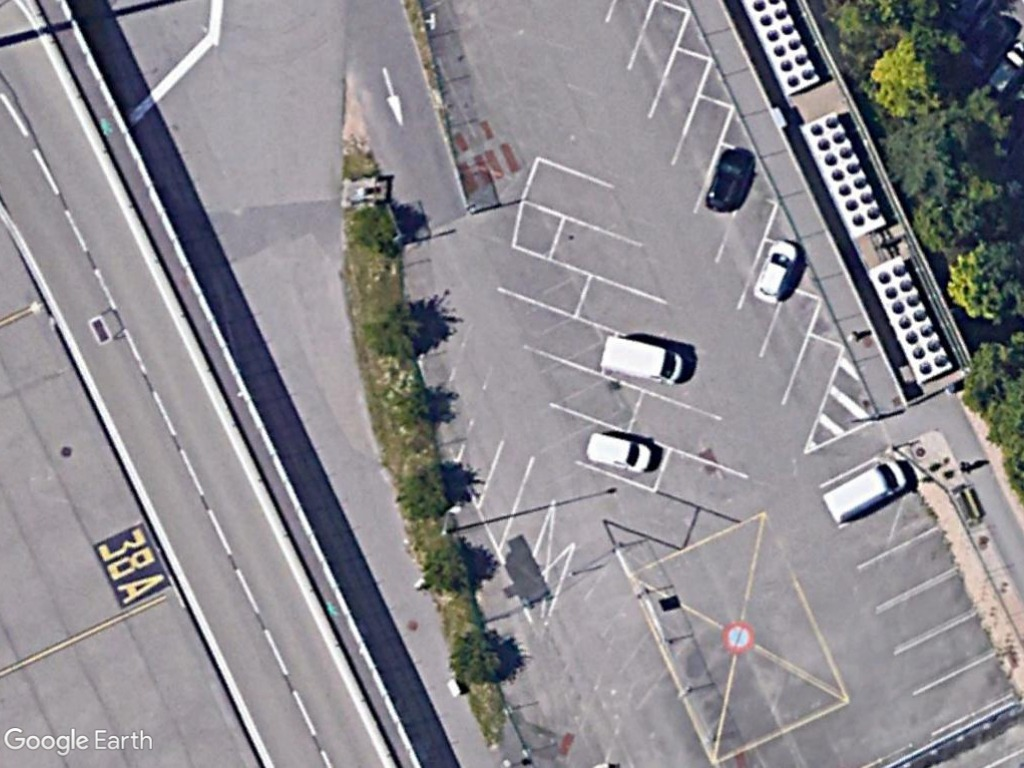car: (749, 237, 799, 305), (703, 148, 752, 215)
van: (819, 459, 909, 528), (598, 331, 686, 386), (582, 428, 654, 474)
